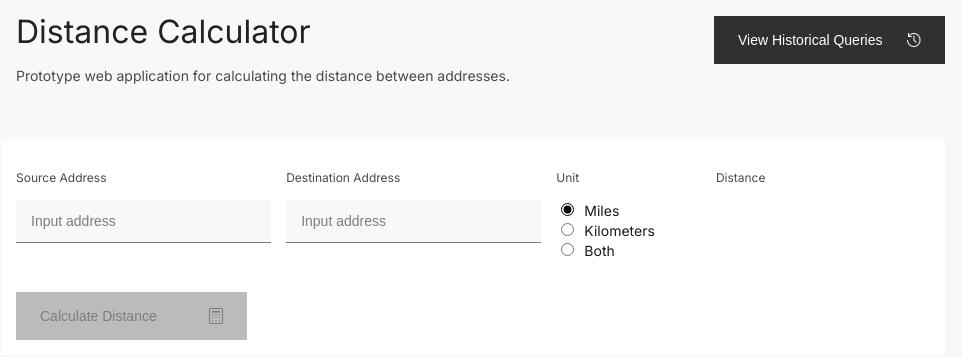
Test: App › is button active and state changed
Type "New York" into the field labelled "Source Address" at (144, 222), box 16,200 -> 271,243
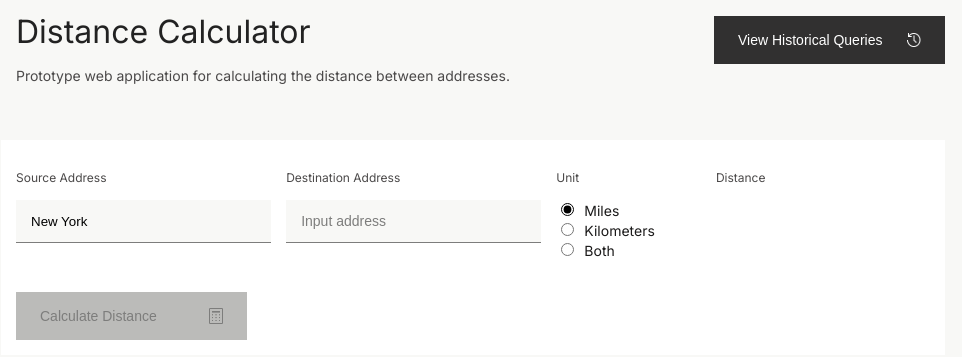
Type "New York" into the field labelled "Destination Address" at (414, 222), box 286,200 -> 541,243
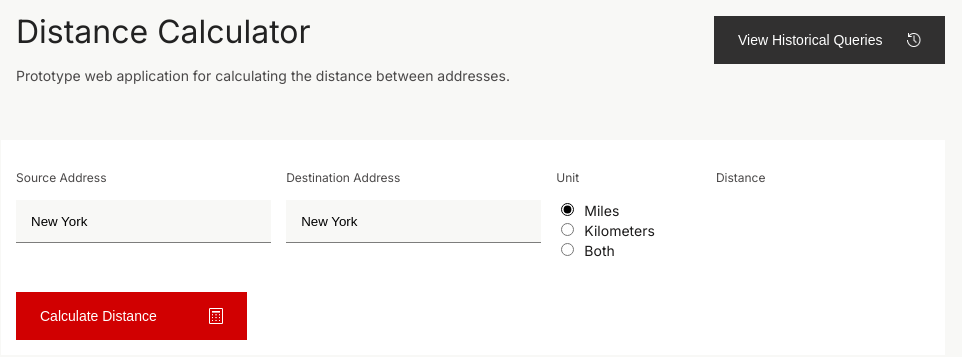
Check: the button "Calculate Distance" is enabled, box 16,292 -> 247,340
